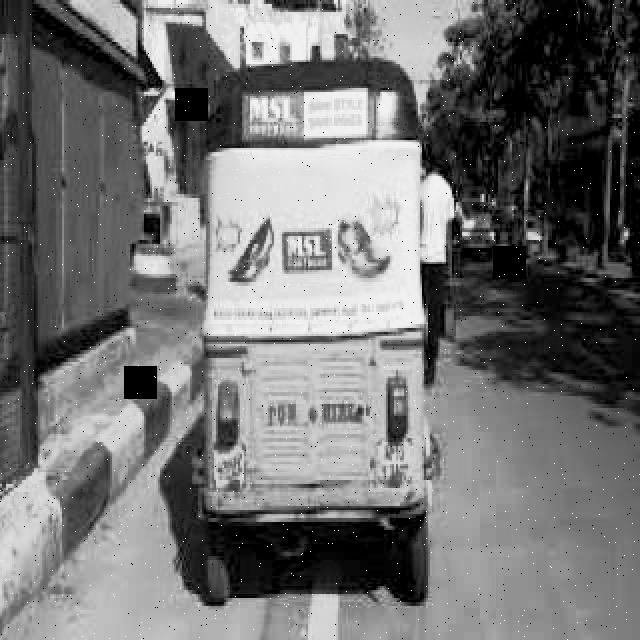Auto-Rickshaw: (178, 68, 466, 614)
